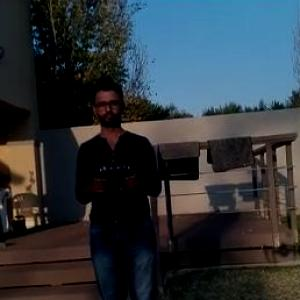follow: (71, 66, 171, 299)
